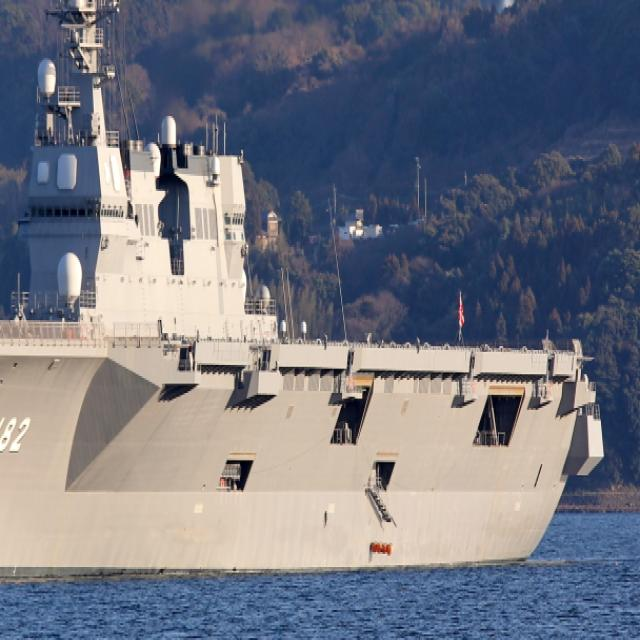Portanaves: (1, 1, 612, 596)
